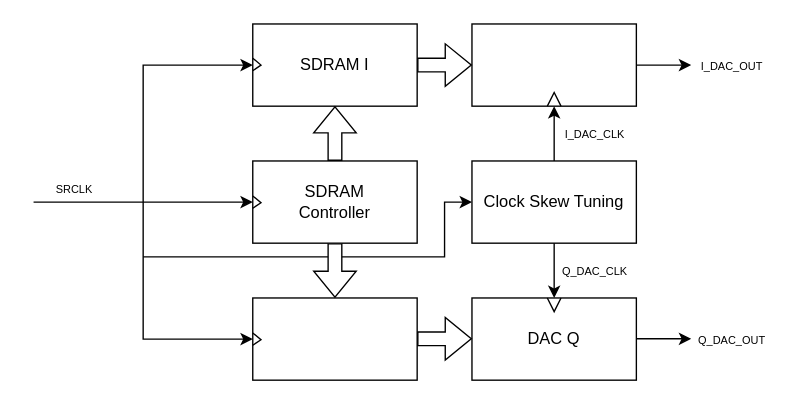
The diagram is 797 pixels wide and 404 high, and some of its shapes have lost their labels. The shapes that lost their labels are listed below. From the top down, each one's box as (x1, y1, x2, y2) in pixels, then its label:
(471, 23, 636, 106): DAC I
(251, 297, 417, 380): SDRAM Q
